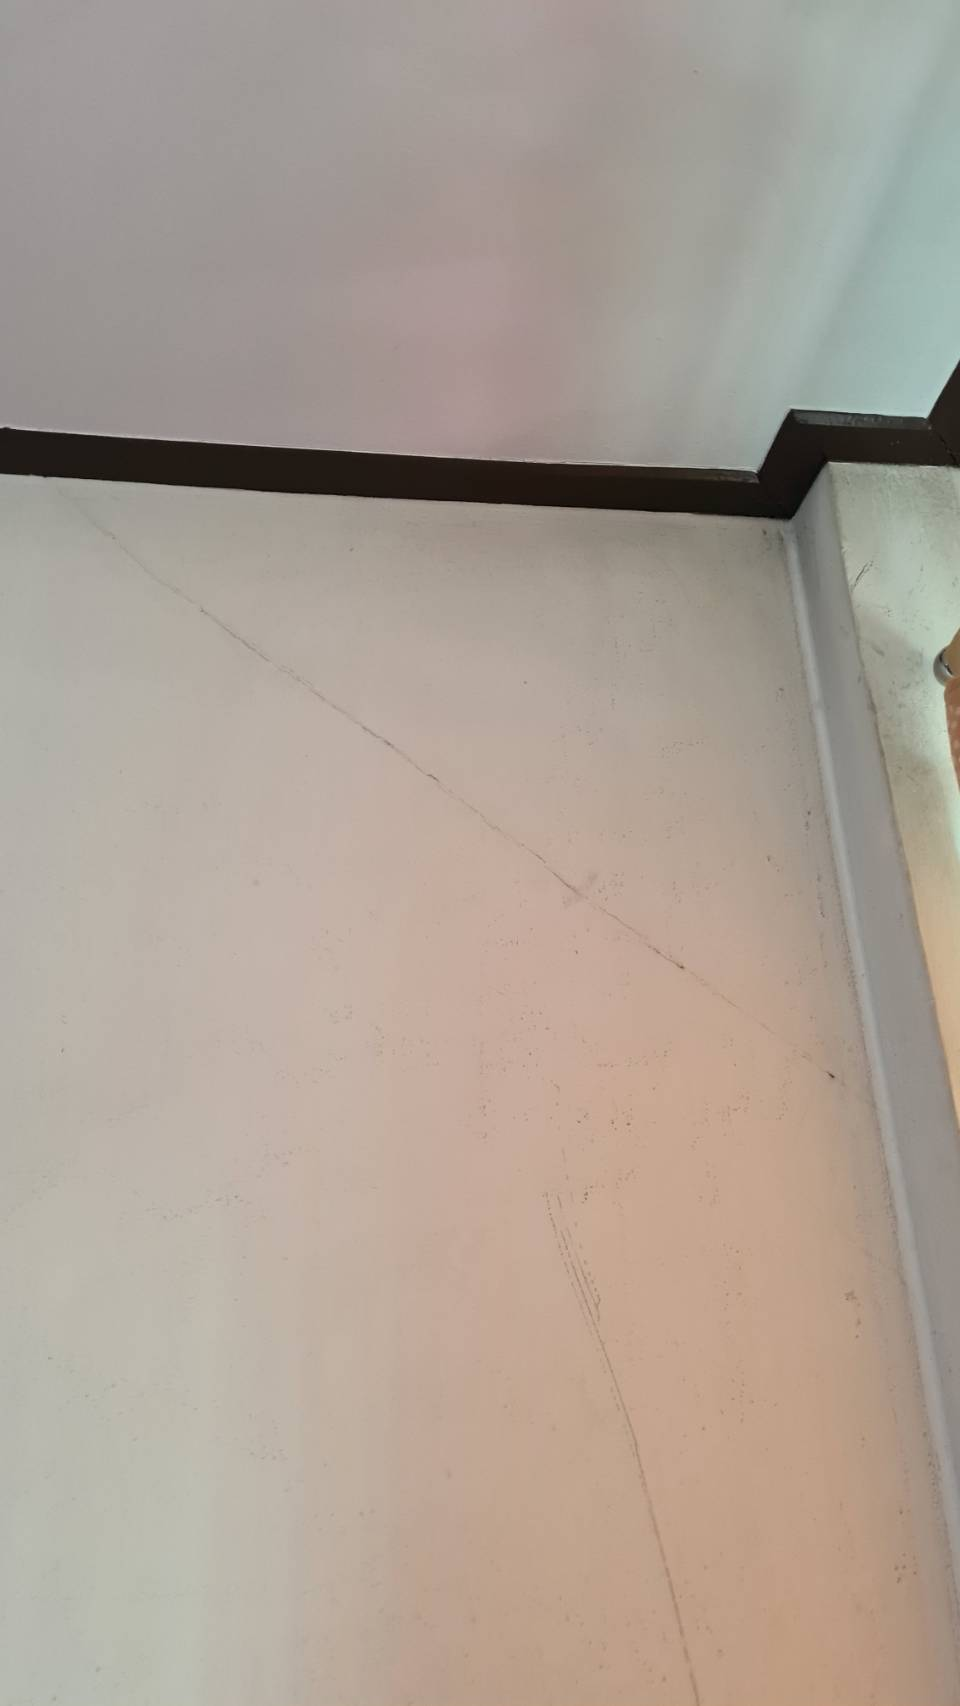Low: (43, 483, 894, 1154)
